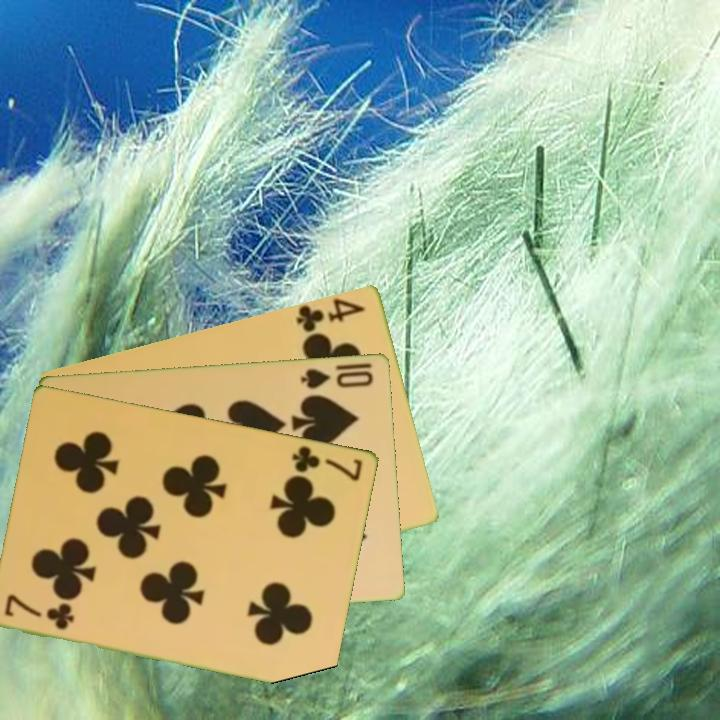10s: (298, 364, 376, 391)
4c: (293, 295, 368, 335)
7c: (289, 442, 366, 484), (1, 591, 78, 633)
